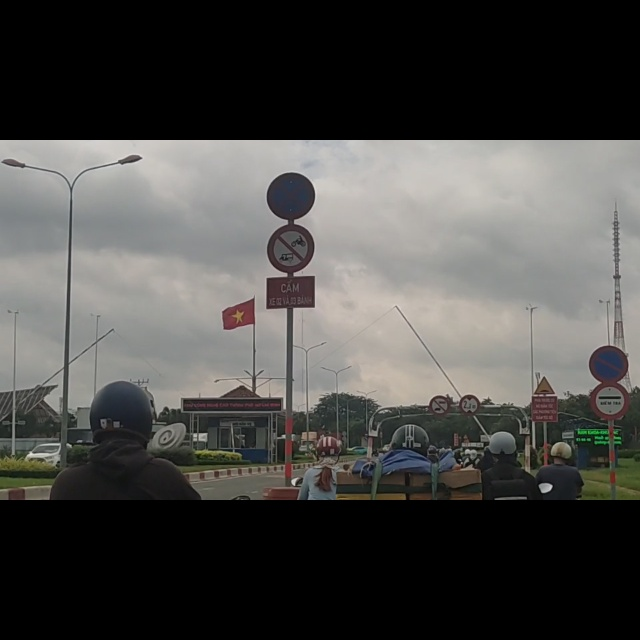bien_cam: (267, 57, 315, 141), (269, 148, 315, 232), (589, 365, 628, 429), (591, 436, 630, 497), (533, 418, 557, 453), (459, 452, 481, 488), (429, 455, 450, 488)
